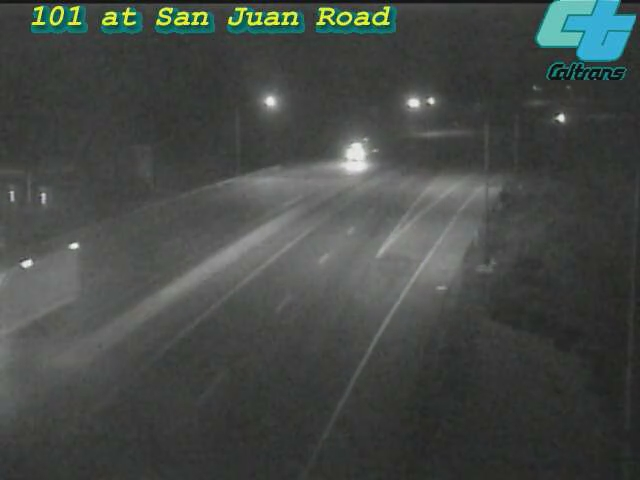vehicle: (315, 113, 395, 193), (1, 254, 62, 334), (537, 92, 587, 142)
